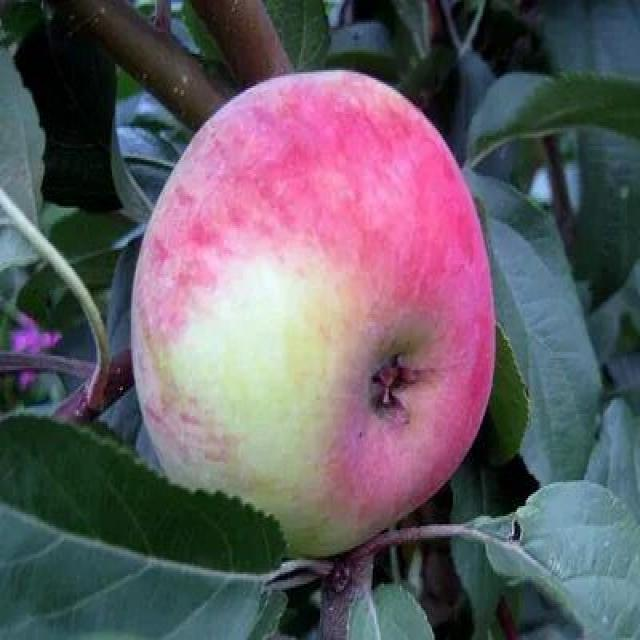Fresh Apple: (105, 66, 502, 562)
